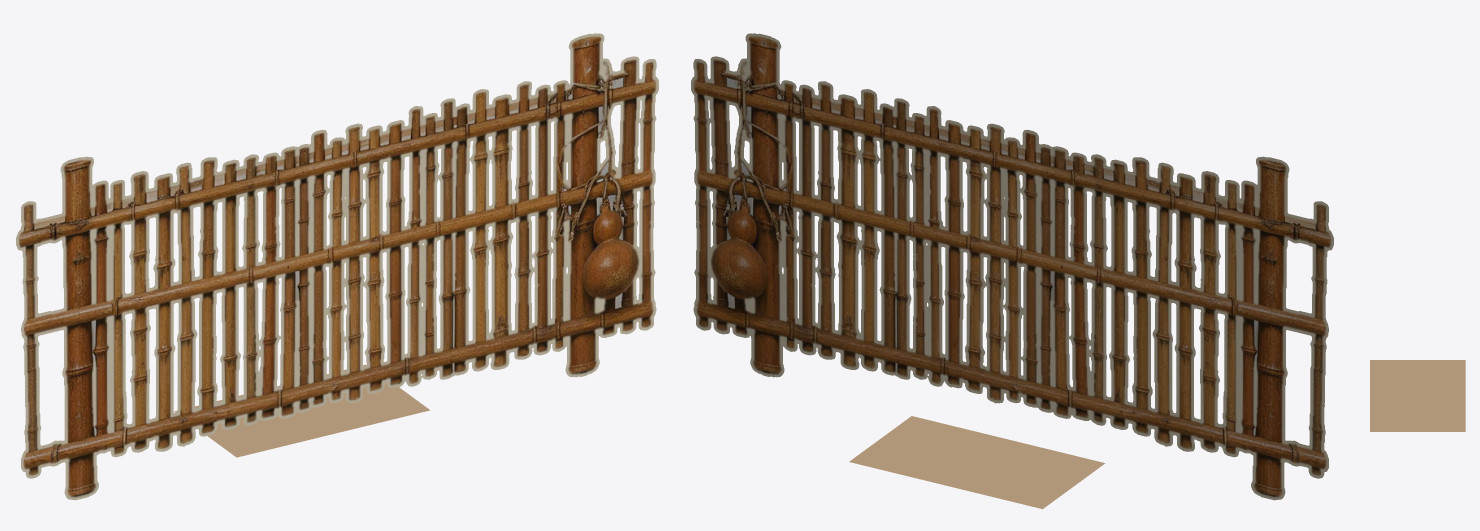
Rendered from toad-prop-fence.glb.
The picture shows the model from 3 angles, left to right: view 1: azimuth 30°, elevation 25°; view 2: azimuth 150°, elevation 25°; view 3: azimuth 270°, elevation 25°; orthographic projection. The views are drawn at different scales.
Parts seen in each view (by area): view 1: fence; view 2: fence; view 3: fence.
Part boxes in pixels (x1,y1,x2,y2): fence: (16, 33, 658, 500); fence: (691, 33, 1333, 509); fence: (1370, 360, 1465, 431).
Size of the model in its own units: 0.1958 by 0.1 by 0.035.
1 material, 1 textured.
